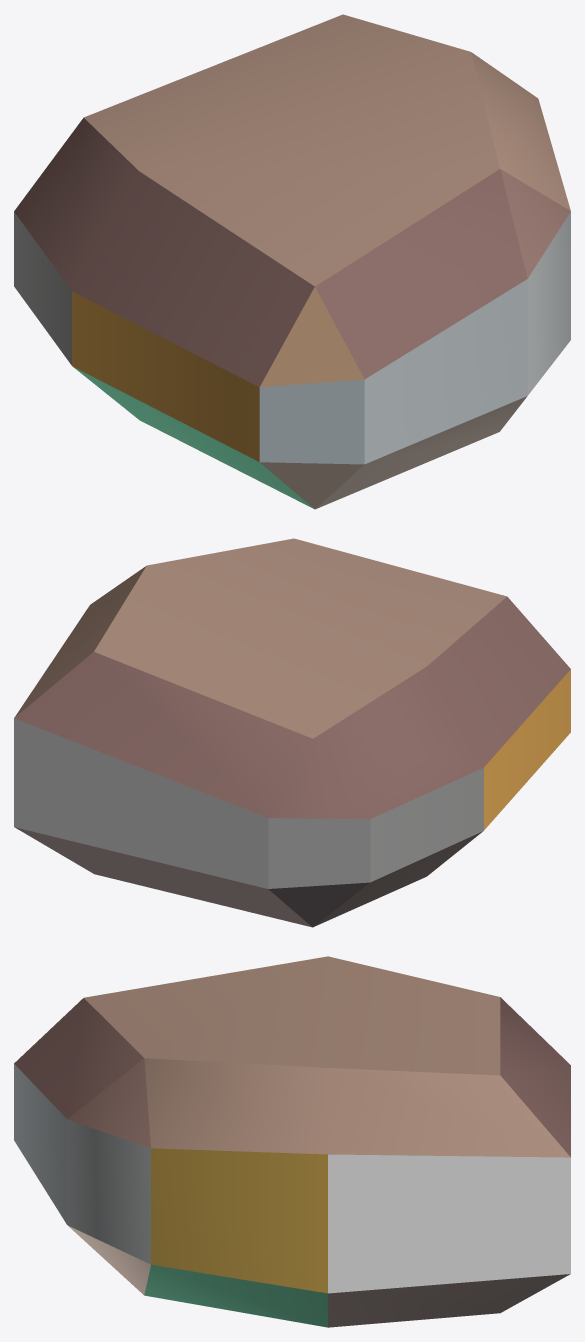
File: rock.glb
3 renders of one model, top to bottom at view 1: azimuth 30°, elevation 25°; view 2: azimuth 150°, elevation 25°; view 3: azimuth 270°, elevation 25°, orthographic. The views are drawn at different scales.
Parts seen in each view (by area): view 1: rock.001; view 2: rock.001; view 3: rock.001.
Part boxes in pixels (left/top/right/bottom): rock.001: left=14, top=14, right=570, bottom=509; rock.001: left=14, top=538, right=570, bottom=927; rock.001: left=14, top=956, right=570, bottom=1327.
Size of the model in its own units: 0.7779 by 0.4586 by 0.8908.
